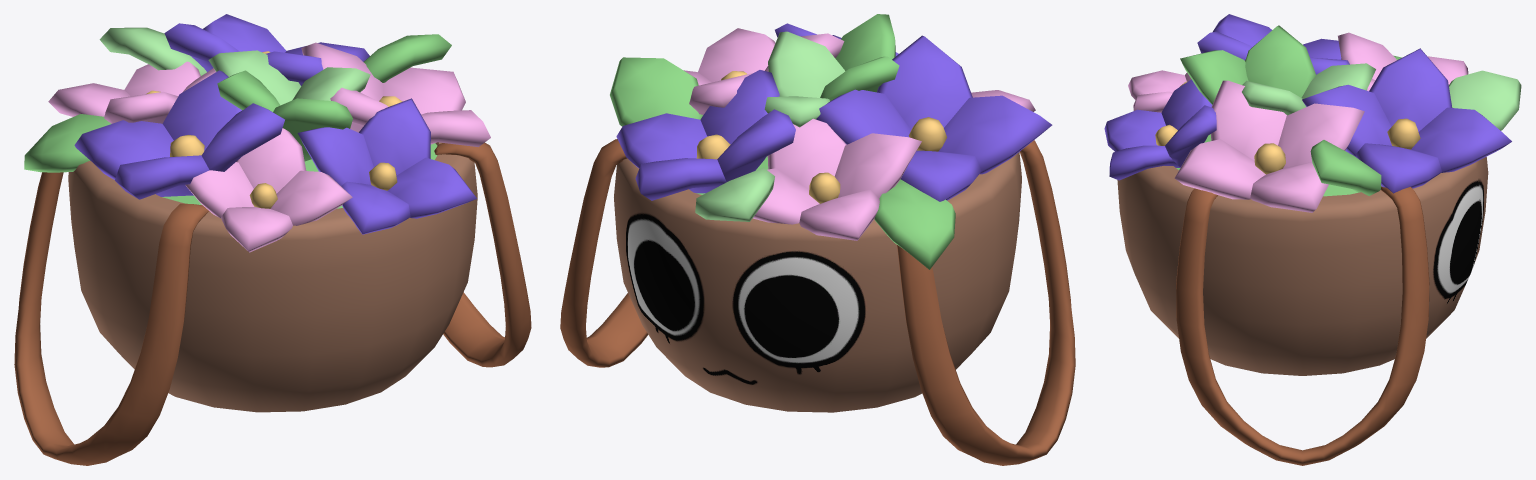
The model's file is Bassie.glb.
3 views of the same model, side by side, from view 1: azimuth 30°, elevation 25°; view 2: azimuth 150°, elevation 25°; view 3: azimuth 270°, elevation 25° (orthographic). The views are drawn at different scales.
Visible parts, largest first — view 1: Bassie Head; view 2: Bassie Head; view 3: Bassie Head.
Boxes of the visible parts, x1,y1,x2,y2 form: Bassie Head: [14, 14, 531, 465]; Bassie Head: [560, 14, 1075, 465]; Bassie Head: [1104, 14, 1521, 465].
Bounding box in the file's own units: 4.2 × 3.14 × 3.67.
Materials: 1 (1 with a texture image).
